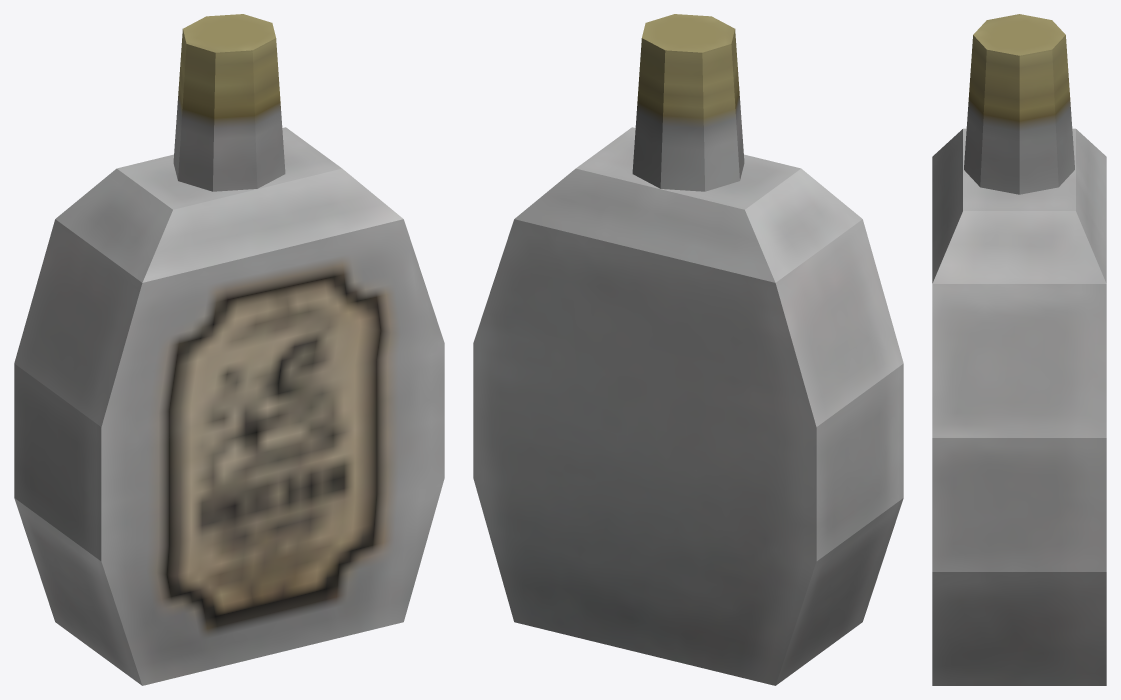
The model's file is Cosmetics.fbx.
3 renders of one model, left to right at view 1: azimuth 30°, elevation 25°; view 2: azimuth 150°, elevation 25°; view 3: azimuth 270°, elevation 25°, orthographic.
Parts seen in each view (by area): view 1: Cosmetics; view 2: Cosmetics; view 3: Cosmetics.
Boxes of the visible parts, x1,y1,x2,y2 form: Cosmetics: (14,14,444,685); Cosmetics: (473,14,903,685); Cosmetics: (932,14,1106,685).
Bounding box in the file's own units: 8.78 × 14.4 × 3.87.
